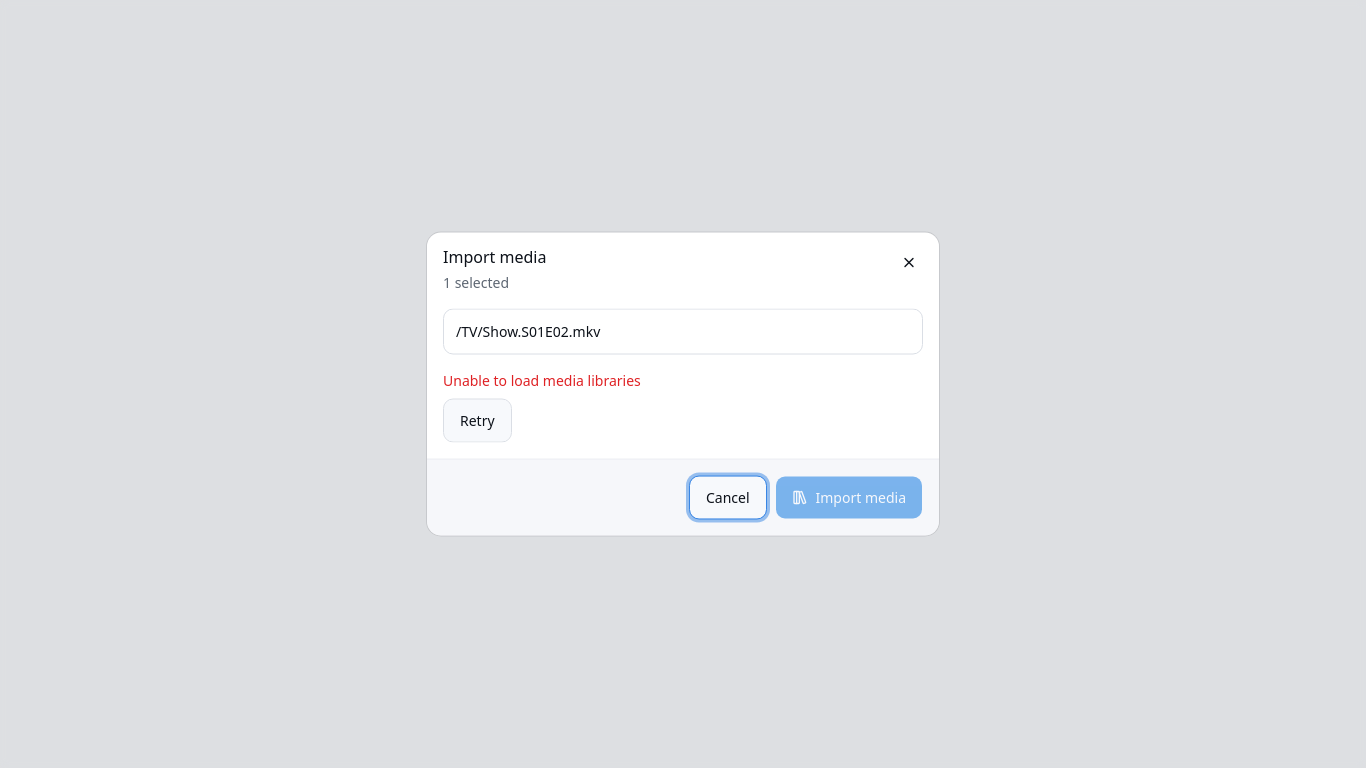
Test case: media import › allows retry after the library list fails
The image size is (1366, 768).
Step 1. Click the button "Retry" → coordinates (477, 420), box [443,398,512,442]
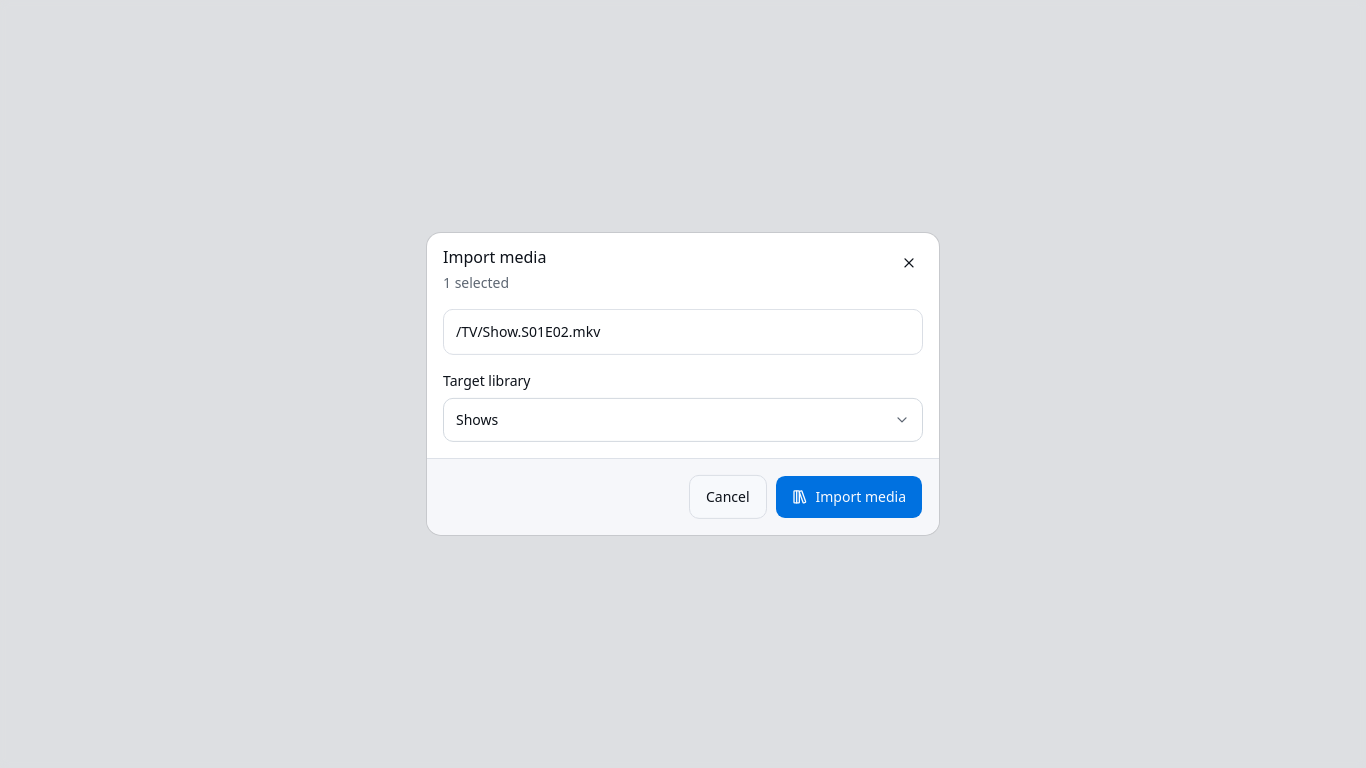
Now the button "Import media" is enabled, box [774,475,923,519]
